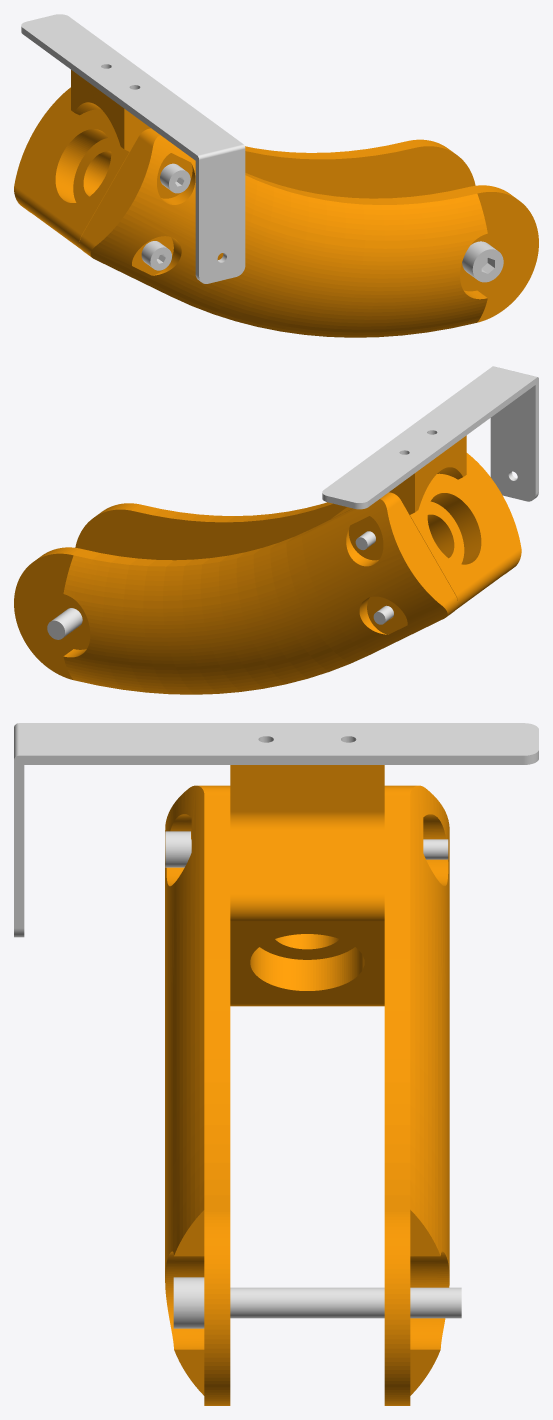
Rendered from land_yacht_forks_v4.dae.
3 views of the same model, one above another, from view 1: azimuth 30°, elevation 25°; view 2: azimuth 150°, elevation 25°; view 3: azimuth 270°, elevation 25° (orthographic). The views are drawn at different scales.
Visible parts, largest first — view 1: node31.003; view 2: node31.003; view 3: node31.003.
Part boxes in pixels (x1,y1,x2,y2): node31.003: (14,14,538,337); node31.003: (14,366,538,694); node31.003: (14,723,538,1405).
Bounding box in the file's own units: 0.146 × 0.102 × 0.0923.
